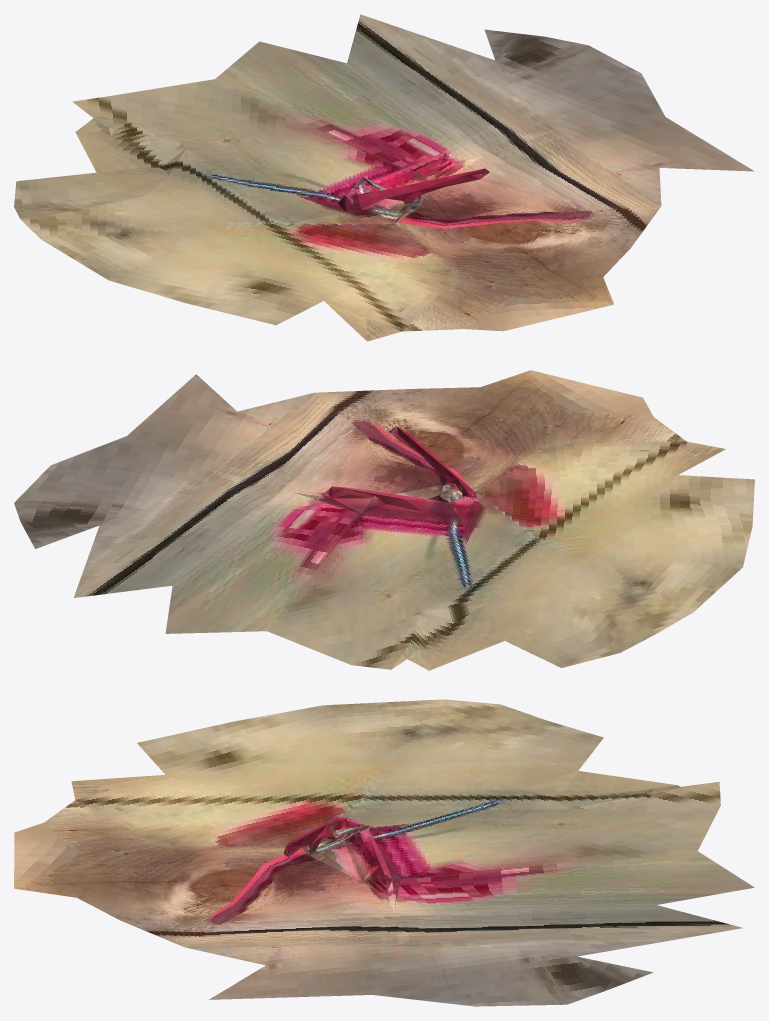
The model's file is 1024-stopspread.glb.
The picture shows the model from 3 angles, top to bottom: view 1: azimuth 30°, elevation 25°; view 2: azimuth 150°, elevation 25°; view 3: azimuth 270°, elevation 25°; orthographic projection. The views are drawn at different scales.
Visible parts, largest first — view 1: Mesh_0; view 2: Mesh_0; view 3: Mesh_0.
Part boxes in pixels (box(x1,y1,x2,y2)): Mesh_0: box(14, 14, 754, 341); Mesh_0: box(14, 370, 754, 670); Mesh_0: box(14, 699, 754, 1006).
Size of the model in its own units: 0.4281 by 0.032 by 0.4295.
Materials: 1 (1 with a texture image).
